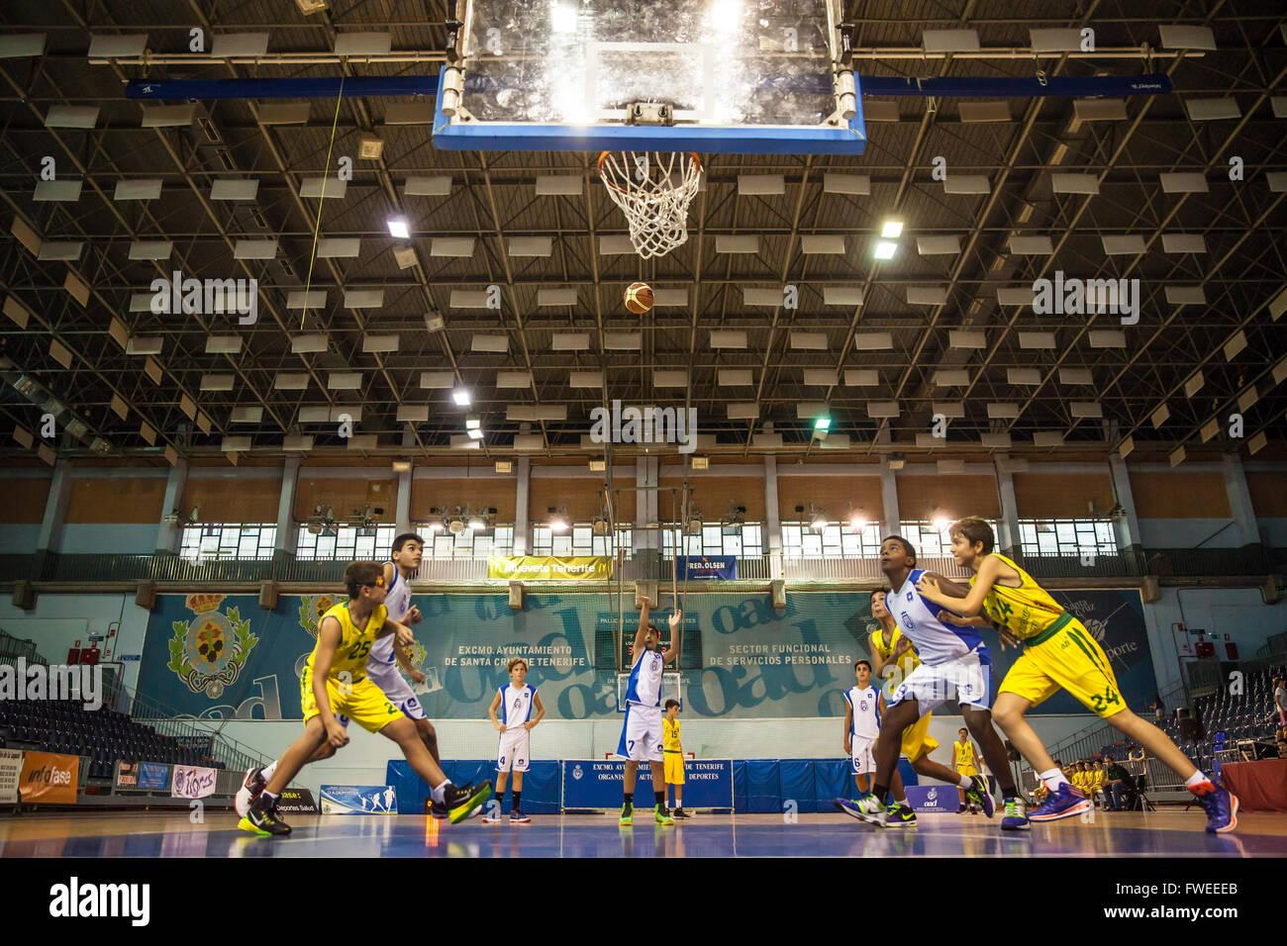basketball: (621, 283, 652, 311)
